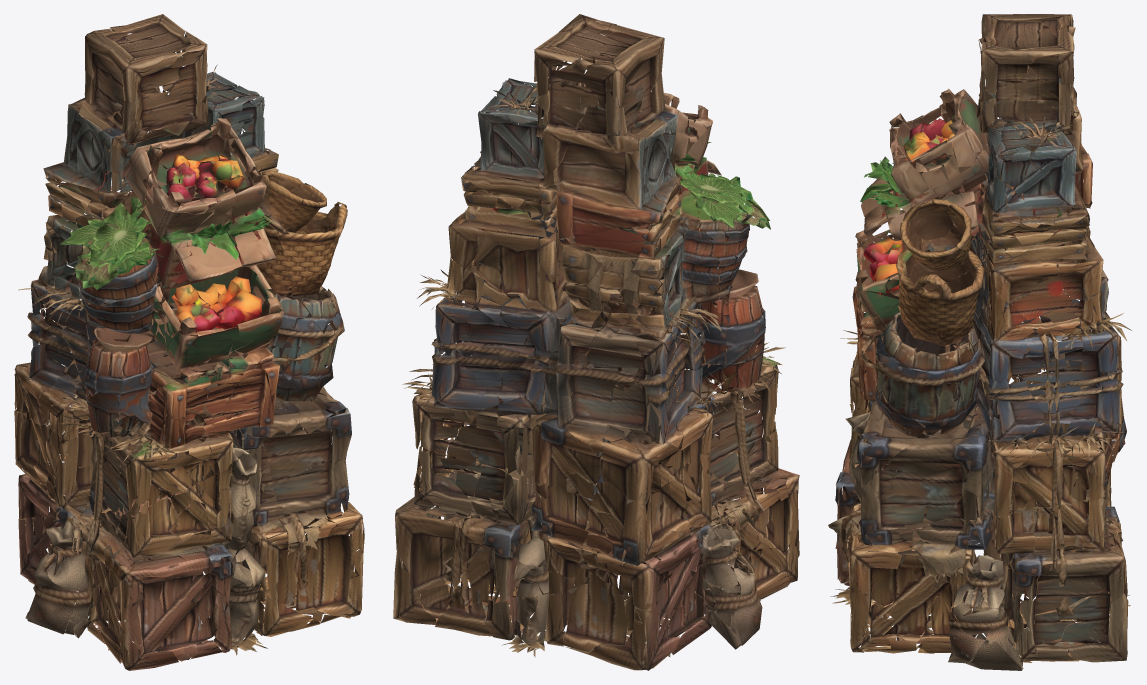
Rendered from CrateStack.fbx.
The picture shows the model from 3 angles, left to right: view 1: azimuth 30°, elevation 25°; view 2: azimuth 150°, elevation 25°; view 3: azimuth 270°, elevation 25°; orthographic projection. The views are drawn at different scales.
Visible parts, largest first — view 1: CrateStack.030; view 2: CrateStack.030; view 3: CrateStack.030.
Part boxes in pixels (x1,y1,x2,y2): CrateStack.030: [14, 14, 364, 670]; CrateStack.030: [393, 14, 799, 670]; CrateStack.030: [828, 14, 1131, 670].
Bounding box in the file's own units: 0.8944 × 1.58 × 0.7777.
1 material, 1 textured.
